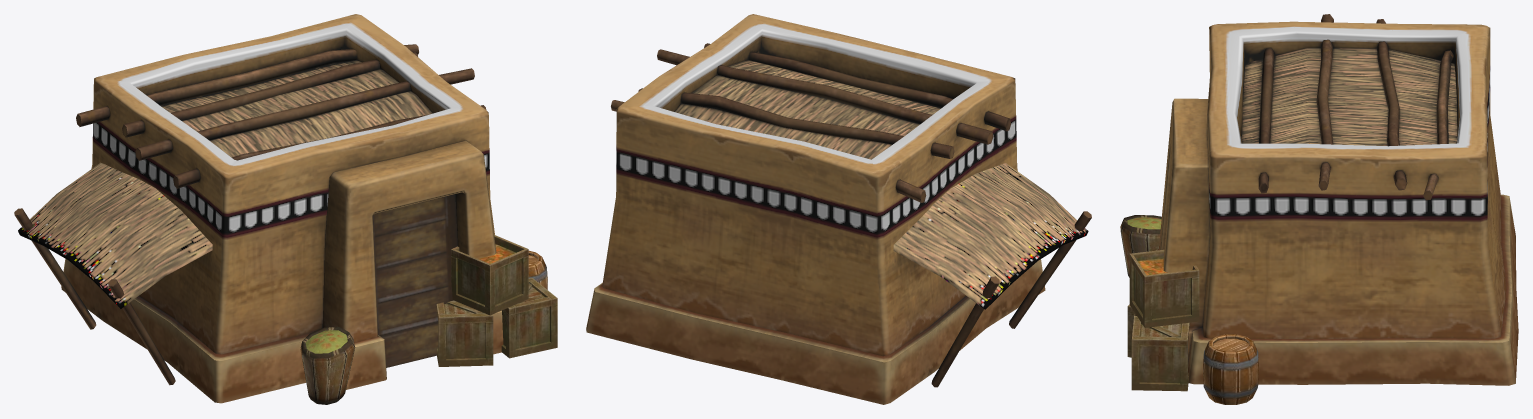
3 renders of one model, left to right at view 1: azimuth 30°, elevation 25°; view 2: azimuth 150°, elevation 25°; view 3: azimuth 270°, elevation 25°, orthographic. The views are drawn at different scales.
Size of the model in its own units: 5.31 by 2.72 by 4.2.
Materials: 4 (4 with a texture image).
